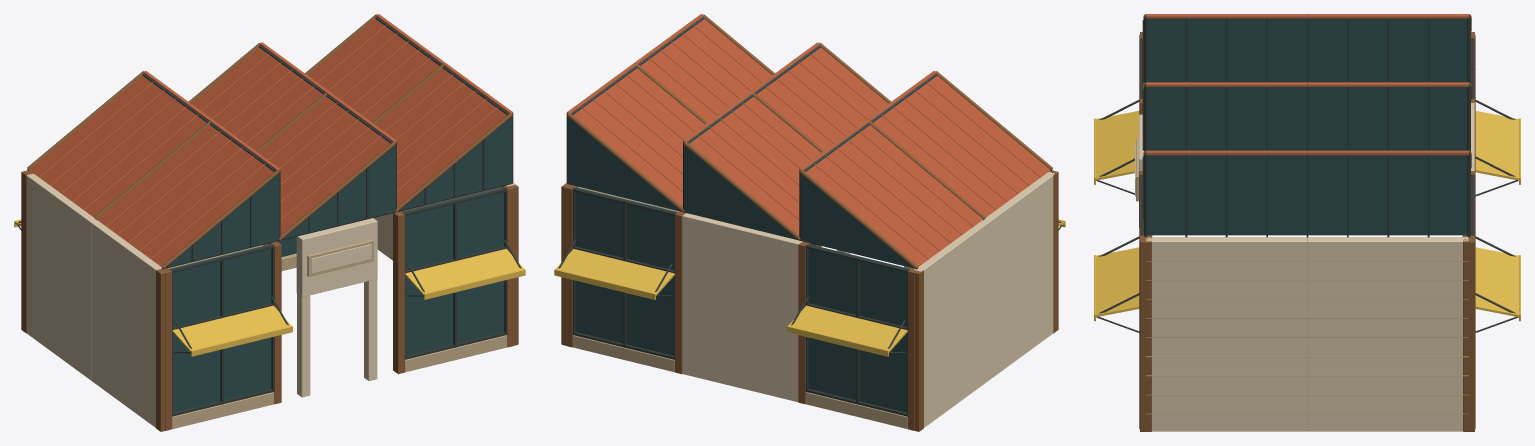
File: hall_assembly.glb
3 views of the same model, side by side, from view 1: azimuth 30°, elevation 25°; view 2: azimuth 150°, elevation 25°; view 3: azimuth 270°, elevation 25° (orthographic). The views are drawn at different scales.
Visible parts, largest first — view 1: Terracotta slope, Terracotta slope.001, Teal glazing.002, Limewash wall.002, Limewash wall.001, Teal glazing, Terracotta slope.004, Terracotta slope.002, Terracotta slope.005, Terracotta slope.003, Triangle glazing, Triangle glazing.002 (+25 smaller); view 2: Limewash wall, Terracotta slope.001, Terracotta slope, Teal glazing.003, Limewash wall.001, Limewash wall.002, Teal glazing.001, Terracotta slope.005, Terracotta slope.003, Terracotta slope.004, Terracotta slope.002, Triangle glazing.001 (+20 smaller); view 3: Limewash wall.003, Limewash wall.004, Clerestory.004, Clerestory.005, Clerestory, Clerestory.001, Clerestory.002, Clerestory.003, Canvas shade.002, Canvas shade.003, Canvas shade.001, Canvas shade (+8 smaller).
Boxes of the visible parts, <box> form: Terracotta slope: <box>97,125,273,266</box>; Terracotta slope.001: <box>29,76,206,217</box>; Teal glazing.002: <box>402,187,504,355</box>; Limewash wall.002: <box>26,173,97,380</box>; Limewash wall.001: <box>91,221,161,427</box>; Teal glazing: <box>169,244,271,412</box>; Terracotta slope.004: <box>375,68,506,206</box>; Terracotta slope.002: <box>259,96,390,234</box>; Terracotta slope.005: <box>308,19,439,122</box>; Terracotta slope.003: <box>191,47,322,150</box>; Triangle glazing: <box>167,174,279,266</box>; Triangle glazing.002: <box>284,145,395,238</box>; Limewash wall: <box>682,213,802,401</box>; Terracotta slope.001: <box>806,125,982,266</box>; Terracotta slope: <box>873,76,1050,217</box>; Teal glazing.003: <box>575,187,677,355</box>; Limewash wall.001: <box>982,172,1054,380</box>; Limewash wall.002: <box>914,221,988,427</box>; Teal glazing.001: <box>808,244,910,412</box>; Terracotta slope.005: <box>573,68,704,206</box>; Terracotta slope.003: <box>689,96,820,234</box>; Terracotta slope.004: <box>640,19,771,122</box>; Terracotta slope.002: <box>757,47,888,150</box>; Triangle glazing.001: <box>800,174,912,266</box>; Limewash wall.003: <box>1146,237,1307,431</box>; Limewash wall.004: <box>1307,237,1468,431</box>; Clerestory.004: <box>1147,155,1306,235</box>; Clerestory.005: <box>1308,155,1467,235</box>; Clerestory: <box>1147,18,1306,82</box>; Clerestory.001: <box>1308,18,1467,82</box>; Clerestory.002: <box>1147,87,1306,150</box>; Clerestory.003: <box>1308,87,1467,150</box>; Canvas shade.002: <box>1094,247,1139,317</box>; Canvas shade.003: <box>1475,247,1520,317</box>; Canvas shade.001: <box>1475,111,1520,180</box>; Canvas shade: <box>1094,111,1139,180</box>.
Size of the model in its own units: 12.3 by 7.61 by 10.57.
